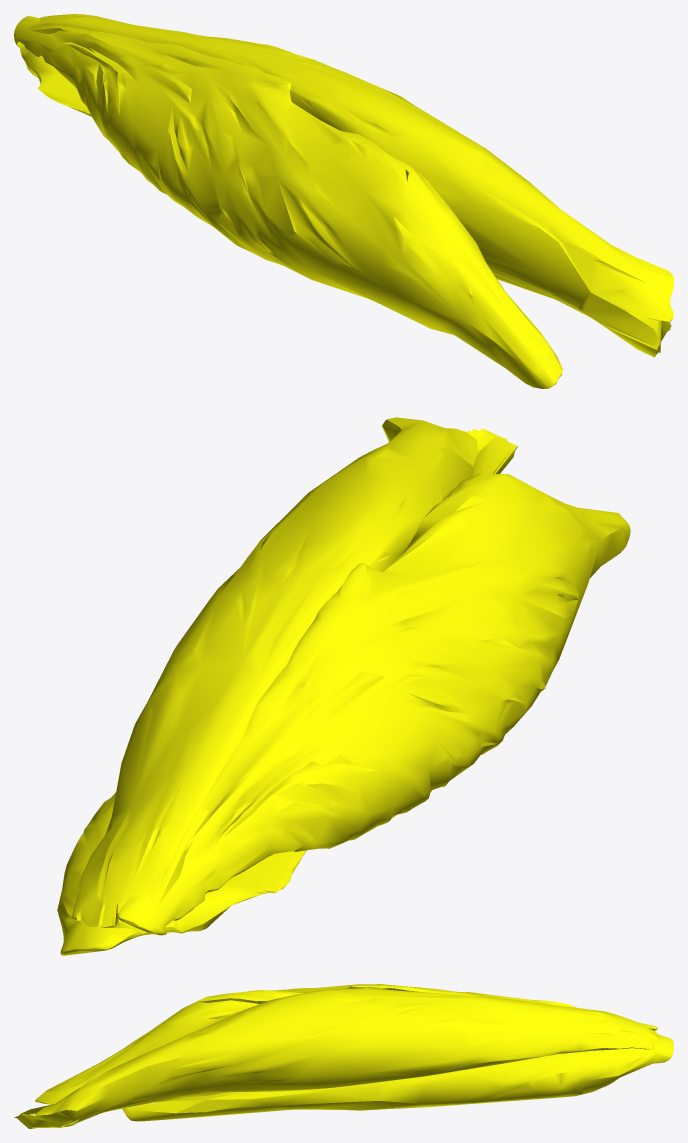
The model's file is TRICEPS_BRACHII.obj.
3 renders of one model, top to bottom at view 1: azimuth 30°, elevation 25°; view 2: azimuth 150°, elevation 25°; view 3: azimuth 270°, elevation 25°, orthographic. The views are drawn at different scales.
Visible parts, largest first — view 1: arm_FJ1477_grp1_arm_MAIN_arm_MUSCLE_arm_Triceps_Brachii_arm_poly, arm_FJ1479_grp1_arm_MAIN_arm_MUSCLE_arm_Triceps_Brachii_arm_poly, arm_FJ1480_grp1_arm_MAIN_arm_MUSCLE_arm_Triceps_Brachii_arm_poly; view 2: arm_FJ1477_grp1_arm_MAIN_arm_MUSCLE_arm_Triceps_Brachii_arm_poly, arm_FJ1479_grp1_arm_MAIN_arm_MUSCLE_arm_Triceps_Brachii_arm_poly, arm_FJ1480_grp1_arm_MAIN_arm_MUSCLE_arm_Triceps_Brachii_arm_poly; view 3: arm_FJ1479_grp1_arm_MAIN_arm_MUSCLE_arm_Triceps_Brachii_arm_poly, arm_FJ1480_grp1_arm_MAIN_arm_MUSCLE_arm_Triceps_Brachii_arm_poly, arm_FJ1477_grp1_arm_MAIN_arm_MUSCLE_arm_Triceps_Brachii_arm_poly.
Boxes of the visible parts, x1,y1,x2,y2 form: arm_FJ1477_grp1_arm_MAIN_arm_MUSCLE_arm_Triceps_Brachii_arm_poly: (14, 16, 562, 388); arm_FJ1479_grp1_arm_MAIN_arm_MUSCLE_arm_Triceps_Brachii_arm_poly: (28, 14, 673, 357); arm_FJ1480_grp1_arm_MAIN_arm_MUSCLE_arm_Triceps_Brachii_arm_poly: (18, 42, 91, 116); arm_FJ1477_grp1_arm_MAIN_arm_MUSCLE_arm_Triceps_Brachii_arm_poly: (117, 473, 630, 935); arm_FJ1479_grp1_arm_MAIN_arm_MUSCLE_arm_Triceps_Brachii_arm_poly: (72, 417, 517, 933); arm_FJ1480_grp1_arm_MAIN_arm_MUSCLE_arm_Triceps_Brachii_arm_poly: (57, 758, 352, 955); arm_FJ1479_grp1_arm_MAIN_arm_MUSCLE_arm_Triceps_Brachii_arm_poly: (14, 988, 659, 1128); arm_FJ1480_grp1_arm_MAIN_arm_MUSCLE_arm_Triceps_Brachii_arm_poly: (122, 1034, 673, 1121); arm_FJ1477_grp1_arm_MAIN_arm_MUSCLE_arm_Triceps_Brachii_arm_poly: (35, 984, 657, 1104).
Size of the model in its own units: 93.31 by 53.12 by 271.
